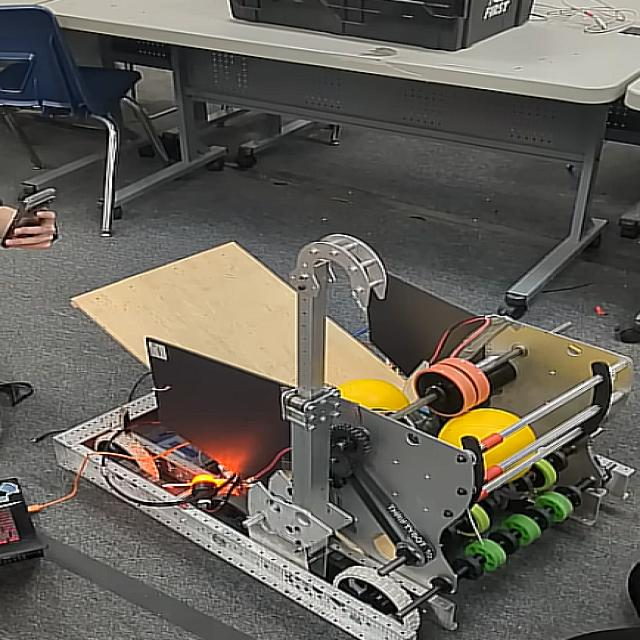Fuel: (438, 408, 536, 486), (438, 408, 518, 448), (332, 378, 410, 415), (339, 379, 409, 412), (487, 426, 535, 468)
